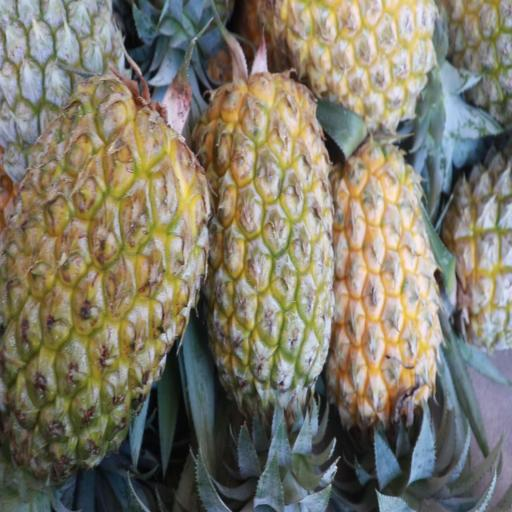Pineapple - v8 v1: (6, 93, 204, 476), (203, 74, 333, 420), (326, 138, 443, 441), (265, 0, 438, 129)
